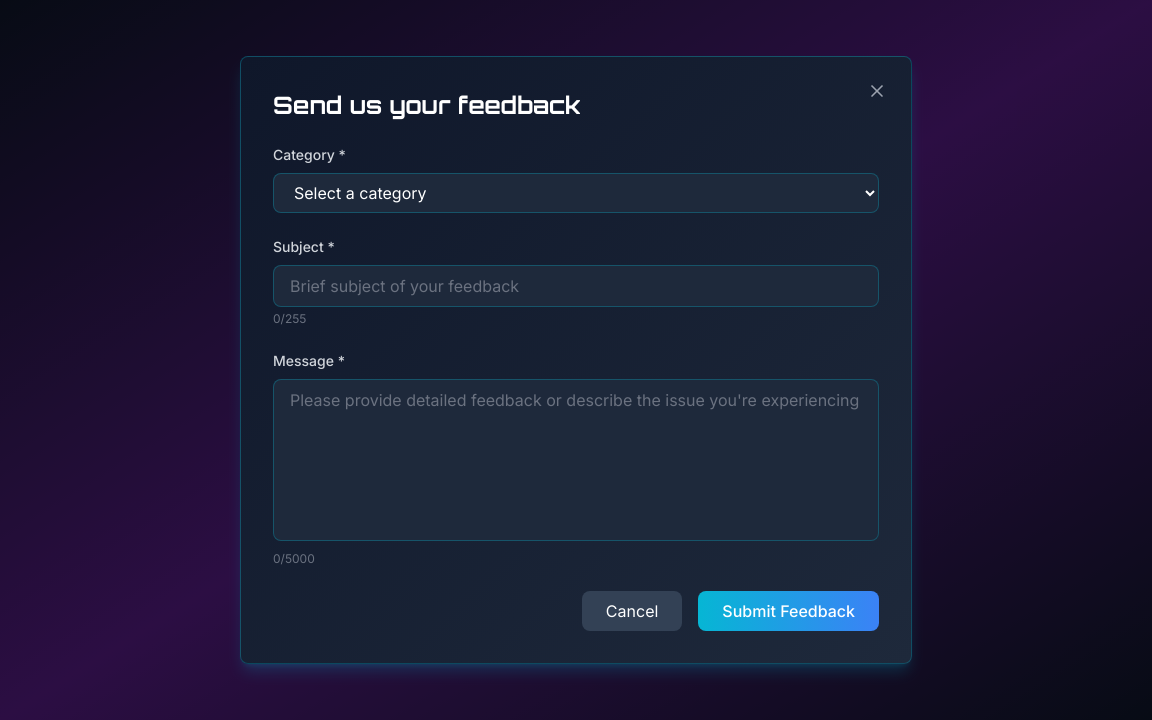
Test case: FeedbackForm › should validate message length
Select "Technical" in the dropdown labelled "Category *". click: point(576, 193)
box: [273,173,879,213]
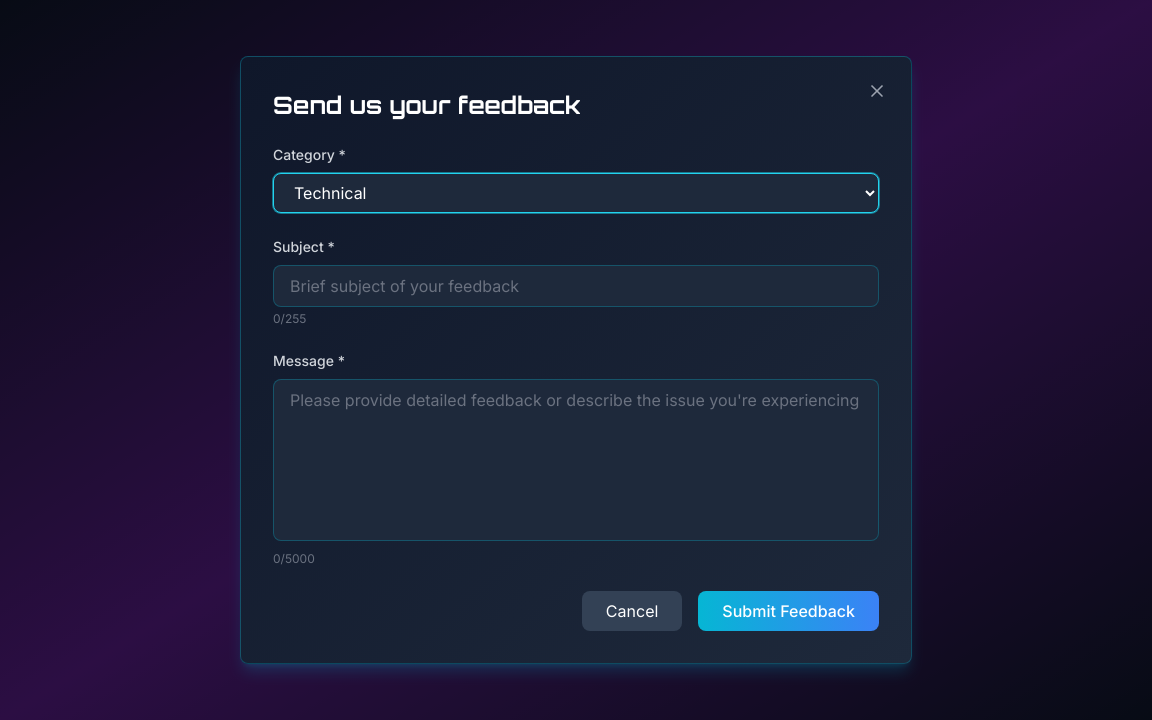
Type "Test Subject" into the field labelled "Subject *". click: point(576, 286)
box: [273,265,879,307]
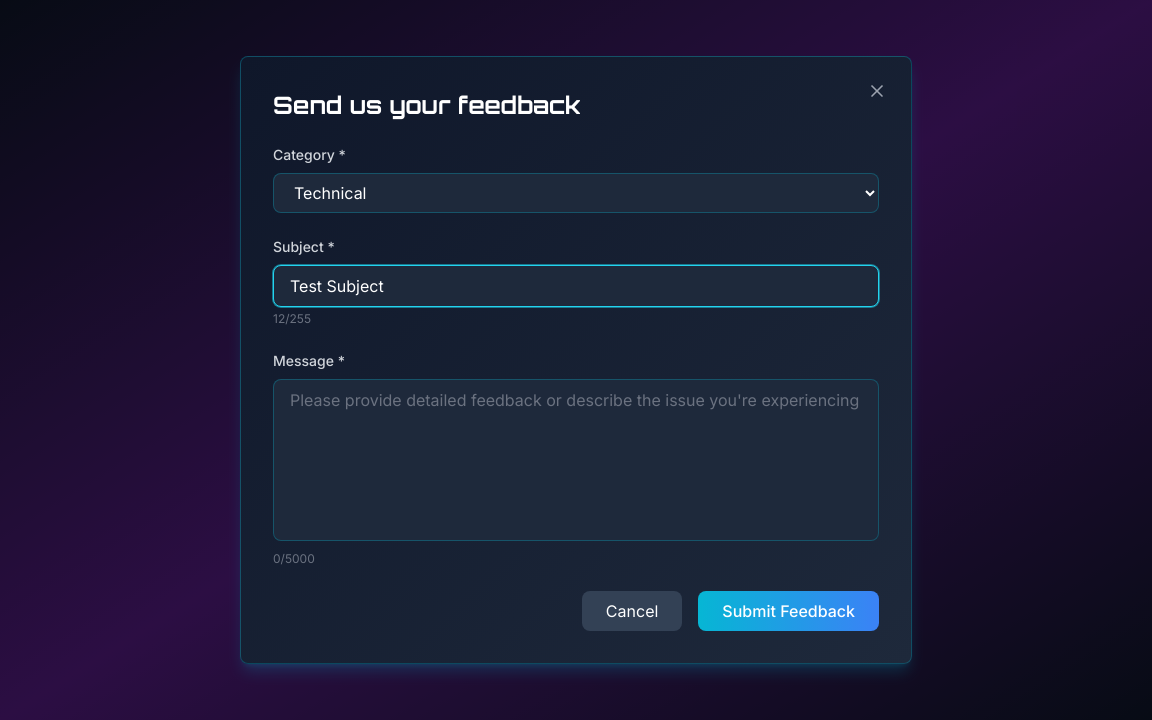
Type "Short" into the text box labelled "Message *". click: point(576, 460)
box: [273,379,879,541]
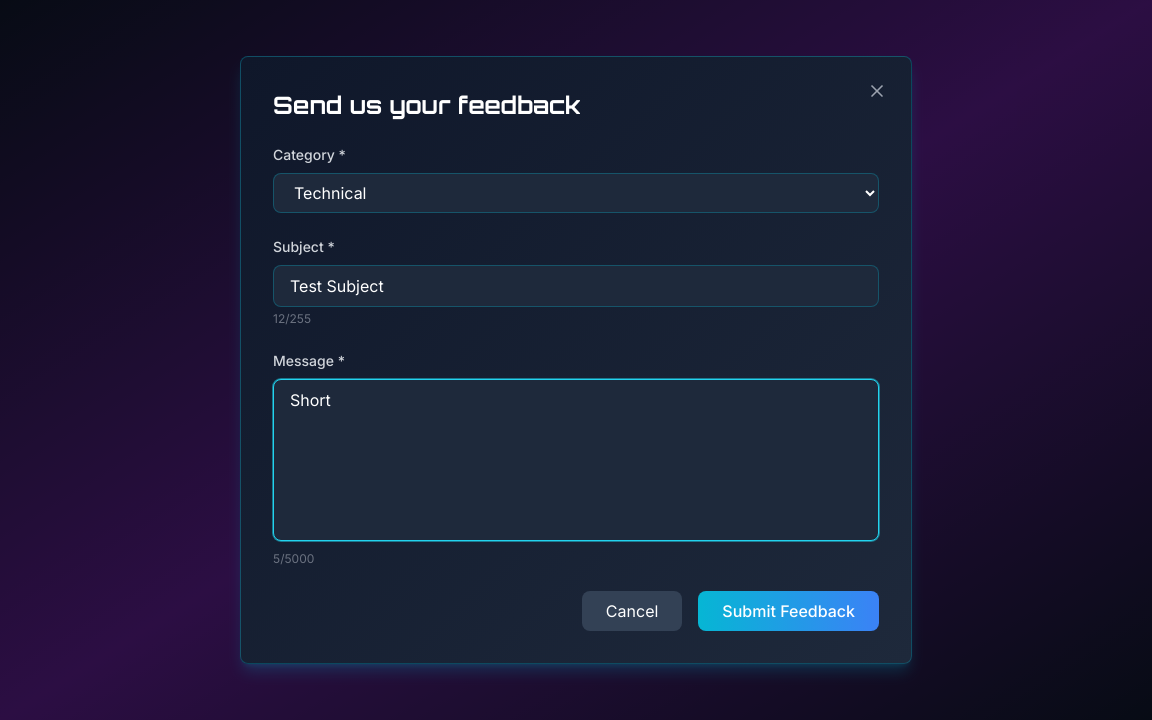
Click the button "Submit Feedback". click: point(789, 611)
box: [698,591,879,631]
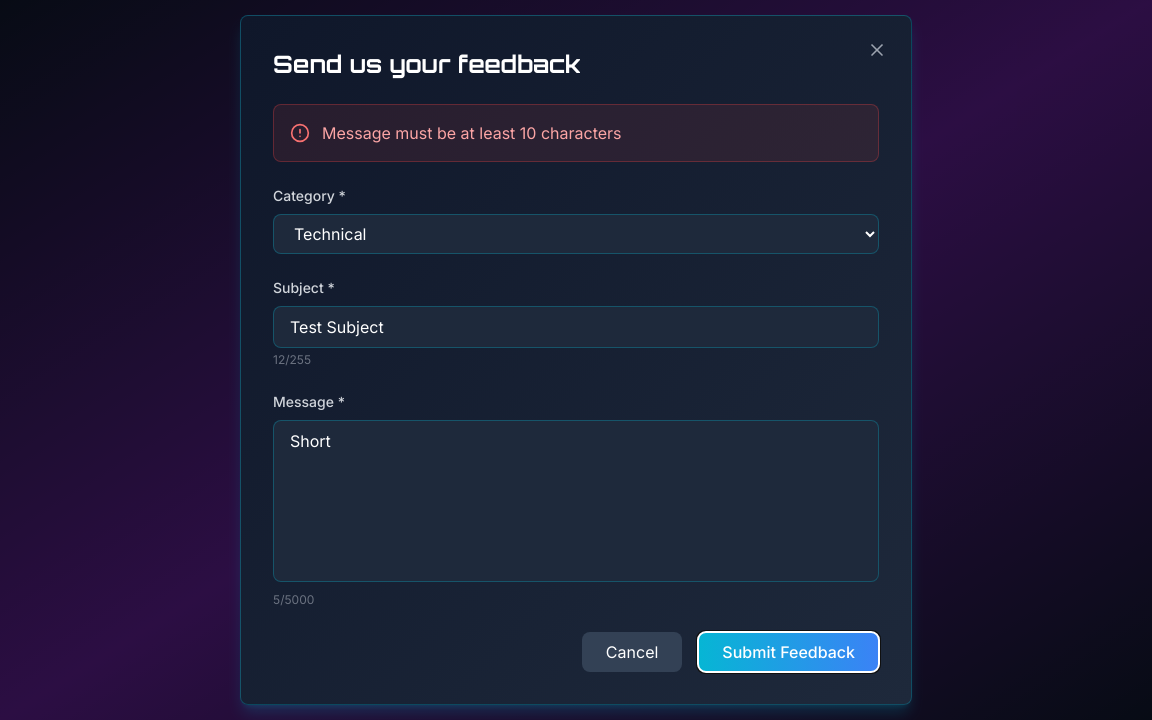
Expected: the text "Message must be at least 10 characters" is shown, [322,121,622,145]
